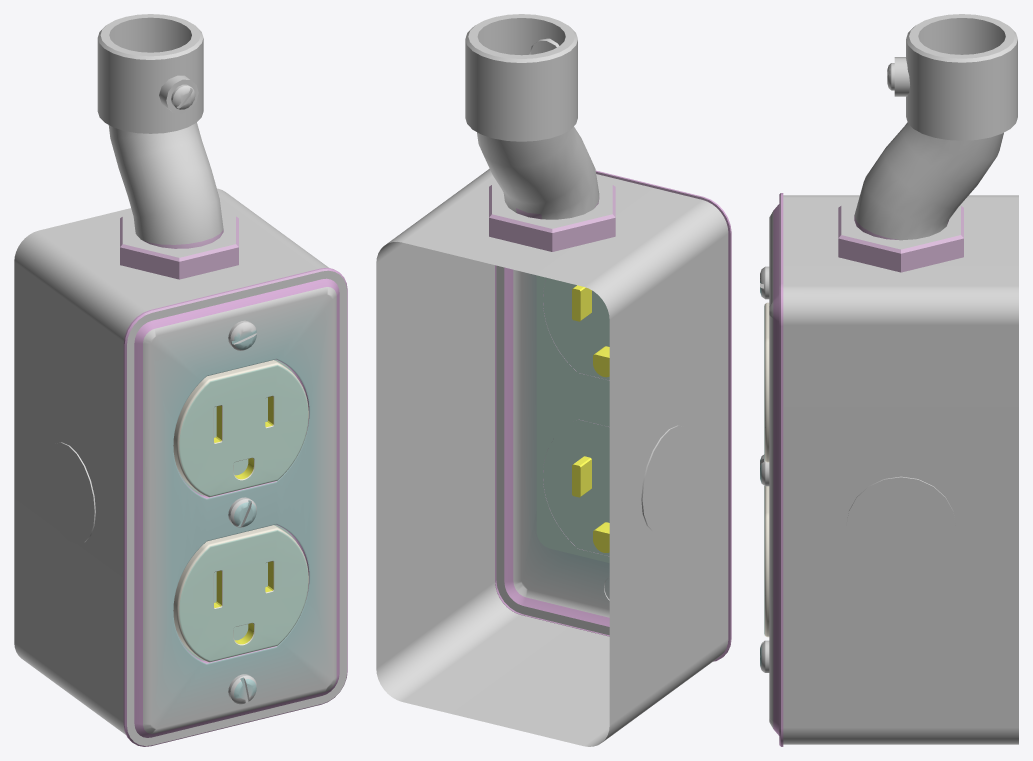
File: Kit_OutletHandyBox.fbx
3 views of the same model, side by side, from view 1: azimuth 30°, elevation 25°; view 2: azimuth 150°, elevation 25°; view 3: azimuth 270°, elevation 25° (orthographic). The views are drawn at different scales.
Parts seen in each view (by area): view 1: Kit_OutletHandyBox_LOD0; view 2: Kit_OutletHandyBox_LOD0; view 3: Kit_OutletHandyBox_LOD0.
Boxes of the visible parts, x1=… form: Kit_OutletHandyBox_LOD0: x1=14, y1=14, x2=347, y2=746; Kit_OutletHandyBox_LOD0: x1=376, y1=14, x2=731, y2=746; Kit_OutletHandyBox_LOD0: x1=760, y1=14, x2=1018, y2=746.
Size of what is drawn, in the model's own units: 0.055 by 0.1479 by 0.0523.
